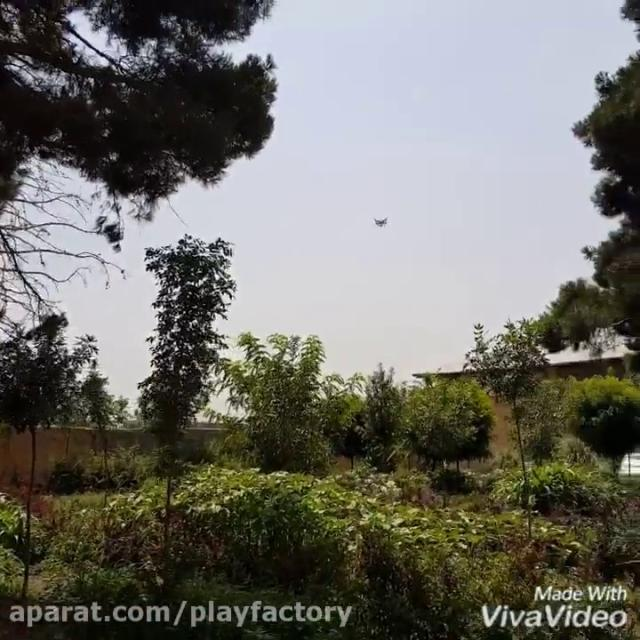drone: (366, 210, 396, 230)
